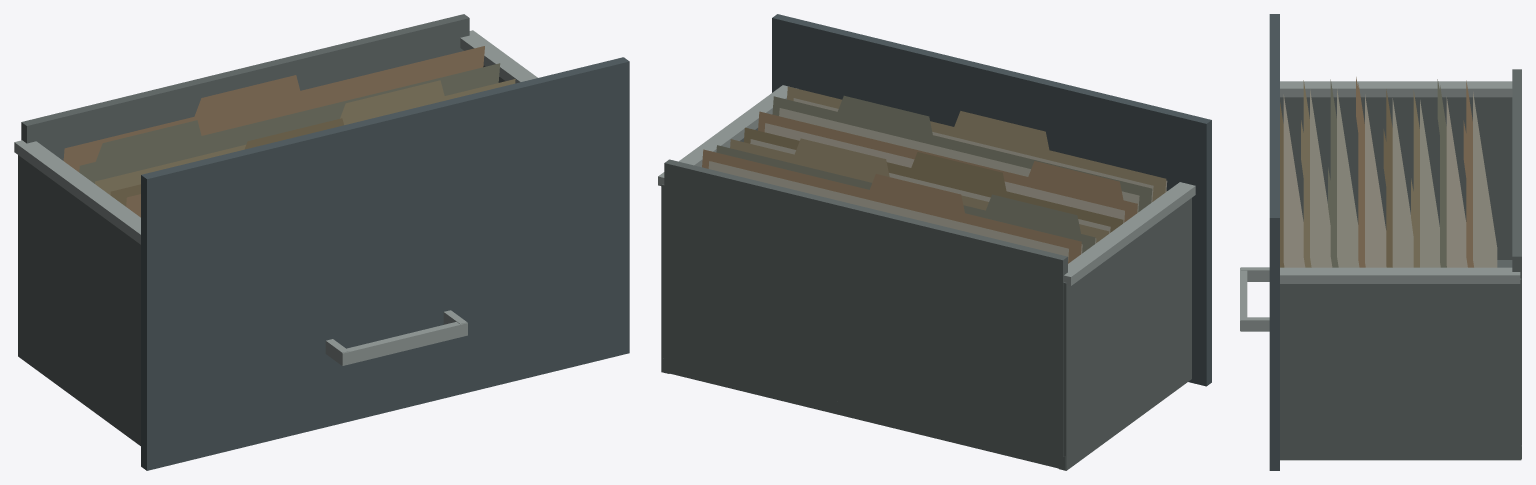
The model's file is active_drawer.gltf.
3 views of the same model, side by side, from view 1: azimuth 30°, elevation 25°; view 2: azimuth 150°, elevation 25°; view 3: azimuth 270°, elevation 25° (orthographic). The views are drawn at different scales.
Parts seen in each view (by area): view 1: active_drawer; view 2: active_drawer; view 3: active_drawer.
Part boxes in pixels (bbox=[...]): active_drawer: bbox=[14, 14, 629, 470]; active_drawer: bbox=[658, 14, 1211, 470]; active_drawer: bbox=[1240, 14, 1521, 470].
Size of the model in its own units: 0.606 by 0.35 by 0.3535.
